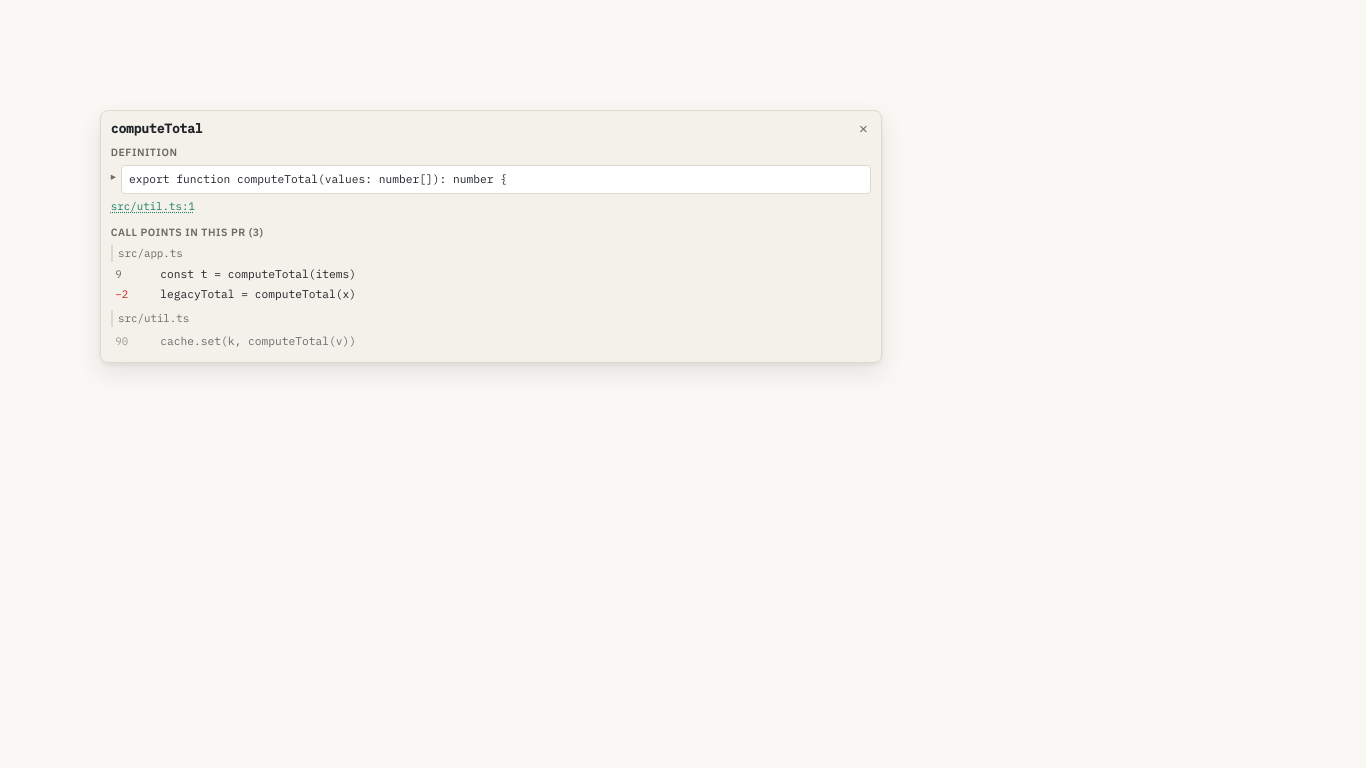
Test: SymbolPopover — definition peek › keeps the patch-only note distinct from a capped body — nothing to expand there
Click the button named "Definition body at src/util.ts:1" at (114,174), box [111, 165, 118, 182]
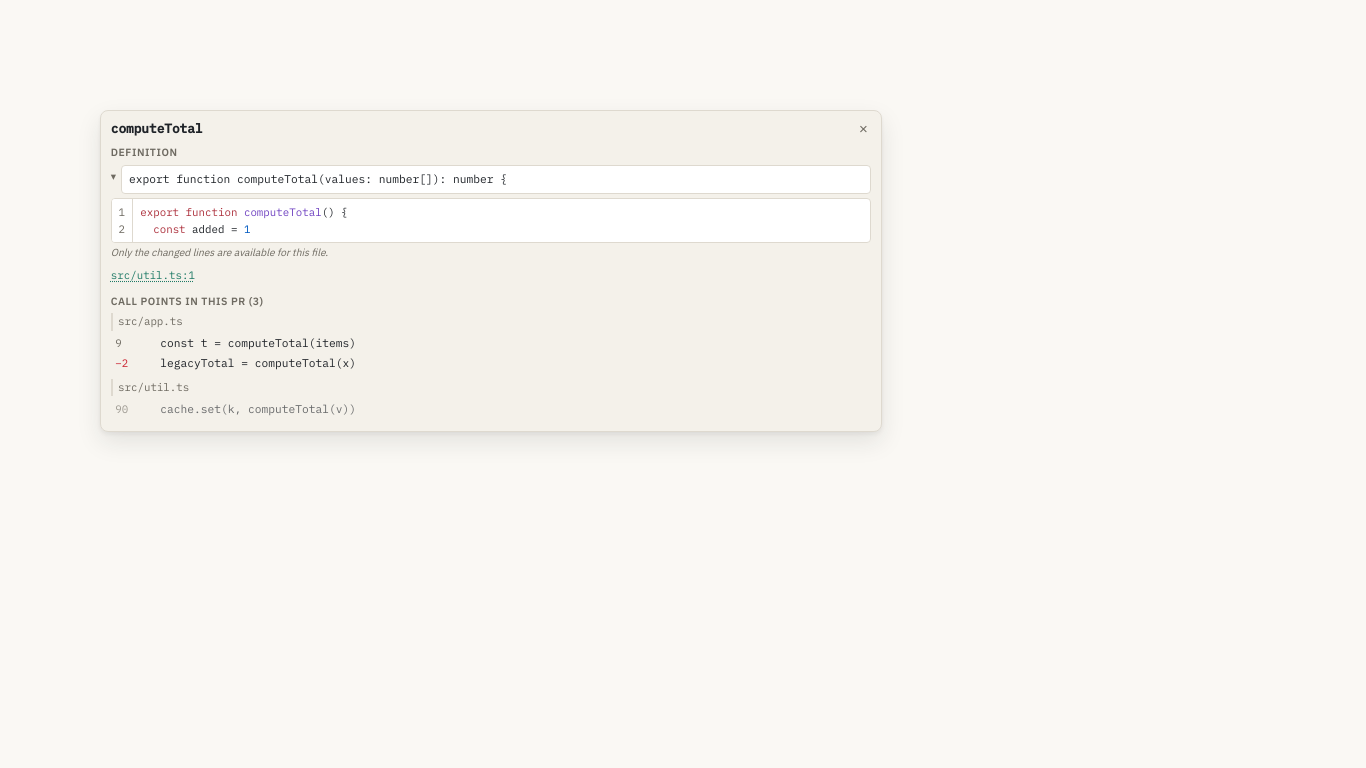
Now the element with test id "definition-peek" shows "Only the changed lines are available for this file.", box [111, 246, 328, 259]
